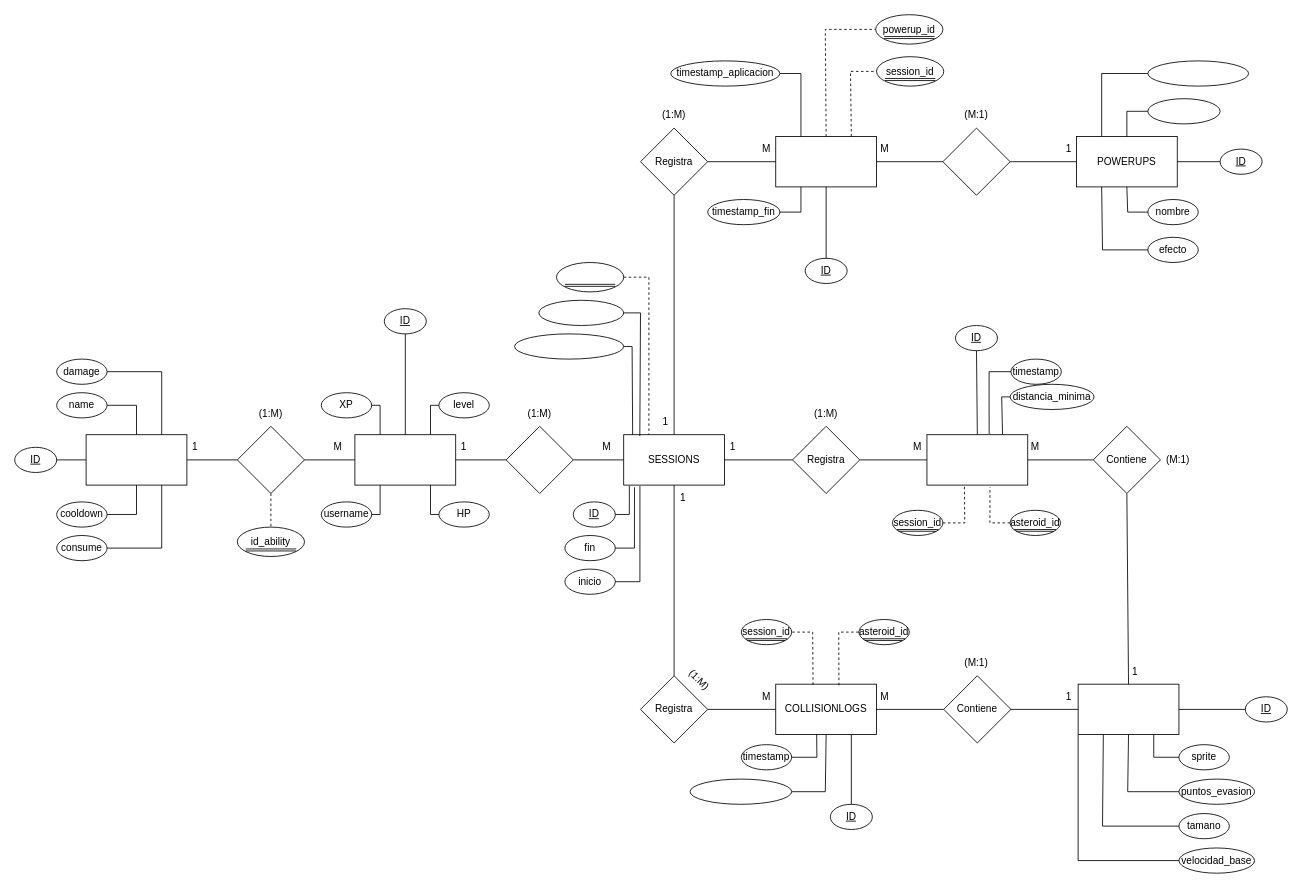
Some shapes in this 1302 by 888 pixel diagram are drawn without their labels. Each missing label, with the centre of its shape:
ABILITIES: the point at 136,459
Administra: the point at 976,161
ASTEROIDTYPES: the point at 1128,709
coordenada_impacto: the point at 740,791
dificultad_inicial: the point at 581,312
DODGERECORDS: the point at 977,459
duracion_base: the point at 1183,111
Hace: the point at 539,459
Pertenece: the point at 270,459
player_id: the point at 590,277
PLAYERS: the point at 405,459
POWERUPLOGS: the point at 826,161
probabilidad_spawn: the point at 1198,73
tiempo_supervivencia: the point at 569,346
